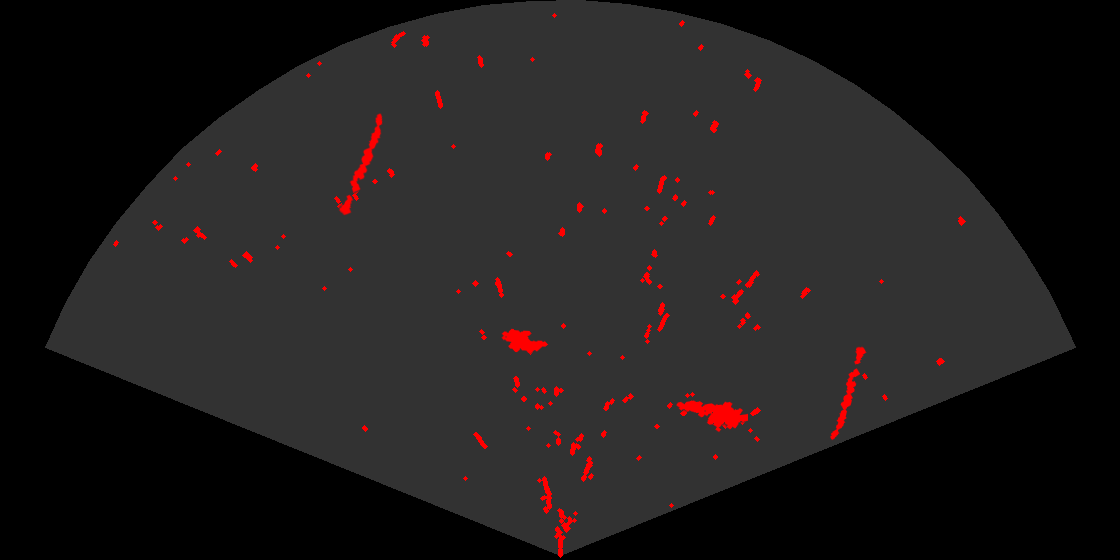AUV: (500, 327, 550, 354)
chain: (337, 112, 384, 217), (829, 344, 868, 442)
frogman: (675, 399, 748, 434)
